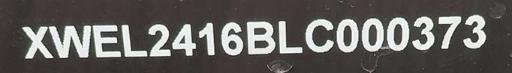letter: (48, 24, 92, 57), (302, 16, 336, 55), (20, 25, 54, 58), (244, 20, 276, 55), (218, 20, 244, 59), (91, 24, 121, 57), (276, 19, 304, 54), (360, 15, 384, 54), (335, 16, 359, 55), (171, 22, 197, 57), (385, 15, 409, 52), (146, 23, 172, 56), (122, 24, 148, 57), (462, 13, 486, 48), (437, 15, 461, 50), (411, 16, 435, 49), (198, 21, 216, 56)
